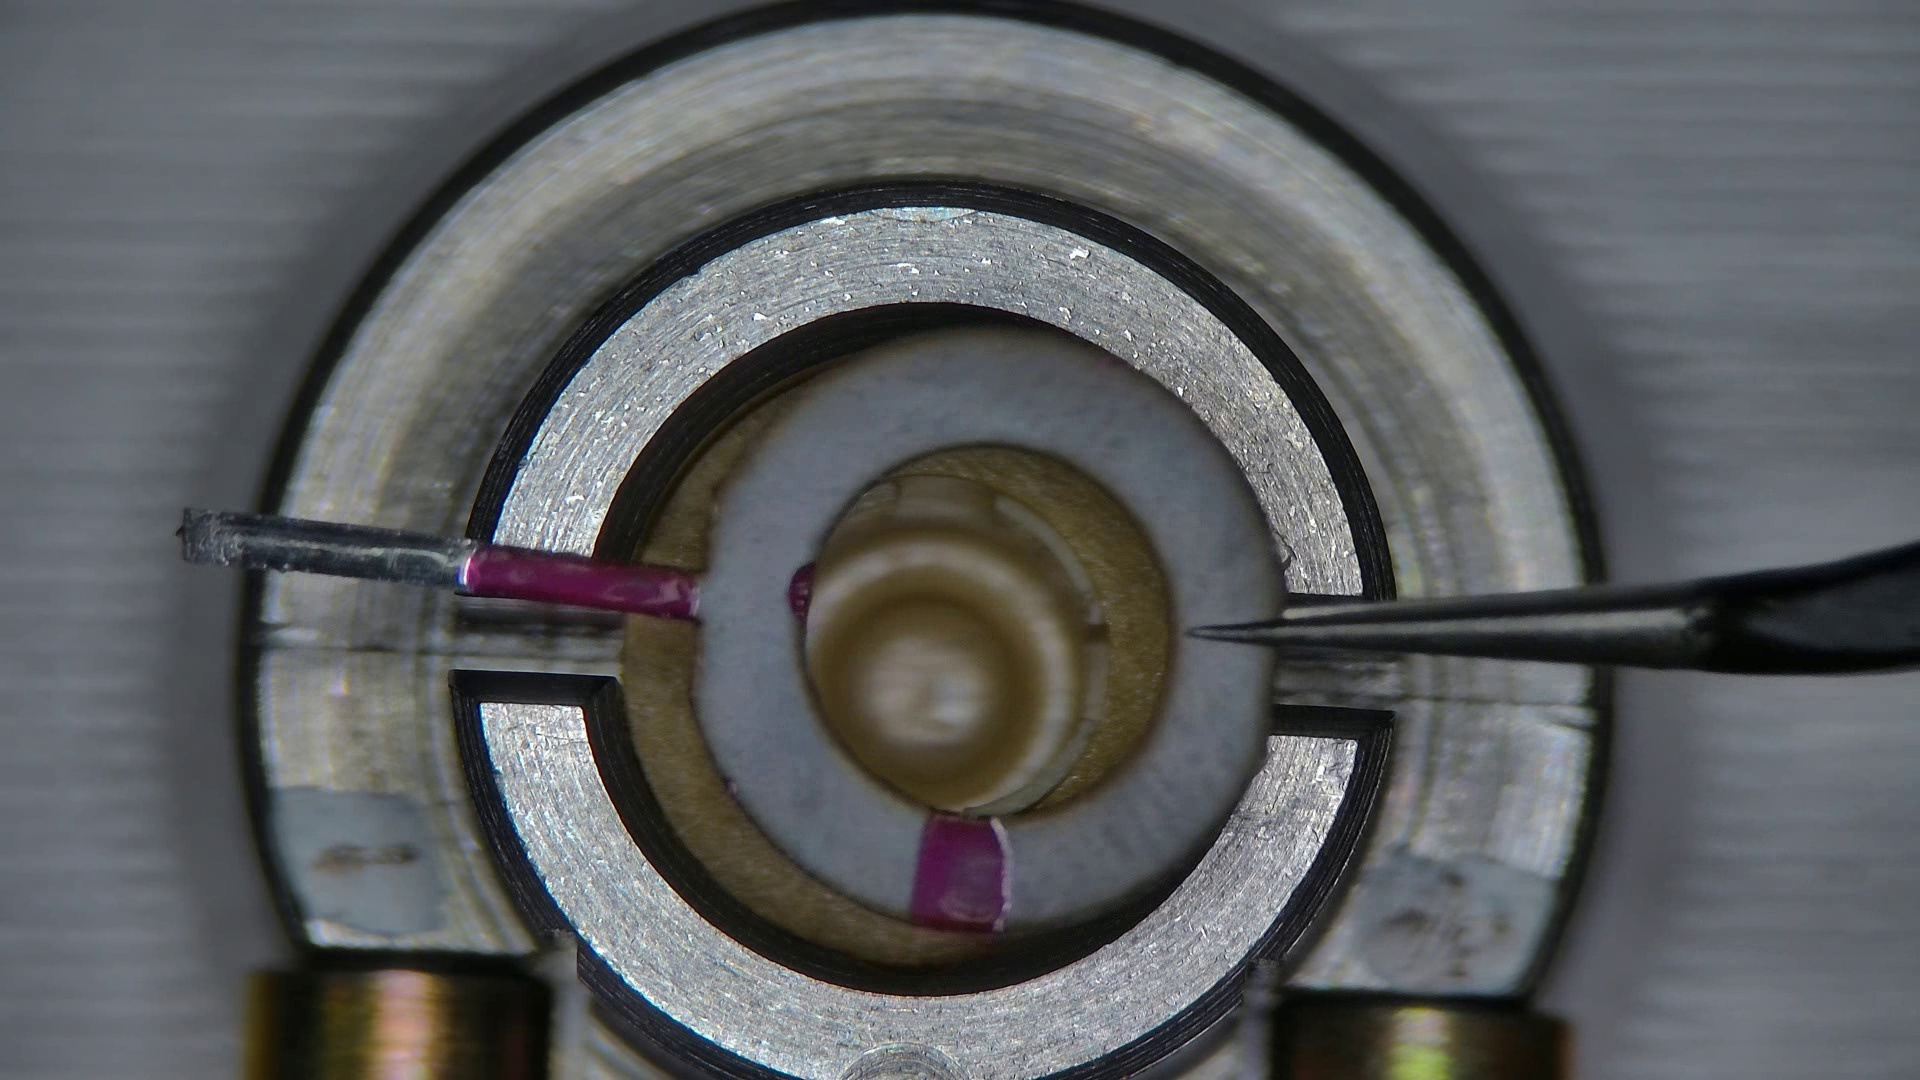YellowOring: (696, 324, 1271, 934)
